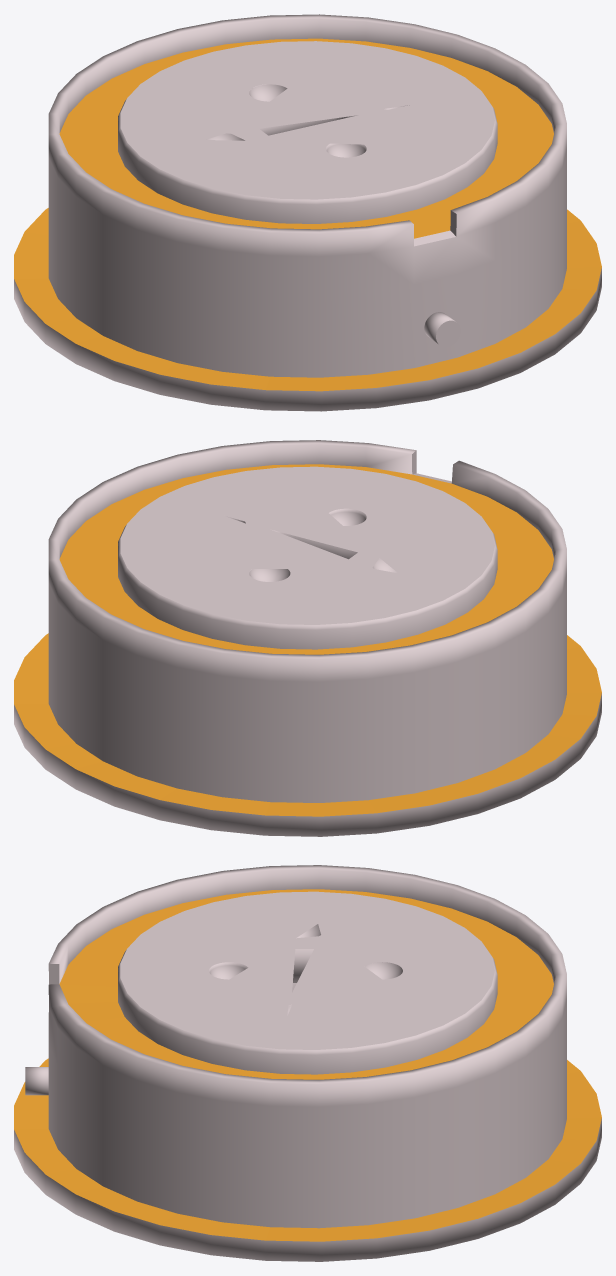
The model's file is Transitiion HUB.fbx.
3 renders of one model, top to bottom at view 1: azimuth 30°, elevation 25°; view 2: azimuth 150°, elevation 25°; view 3: azimuth 270°, elevation 25°, orthographic.
Parts seen in each view (by area): view 1: Cylinder.001; view 2: Cylinder.001; view 3: Cylinder.001.
Part boxes in pixels (x1,y1,x2,y2): Cylinder.001: (14, 14, 601, 411); Cylinder.001: (14, 440, 601, 836); Cylinder.001: (14, 865, 601, 1261).
Bounding box in the file's own units: 57.78 × 21.01 × 57.71.
